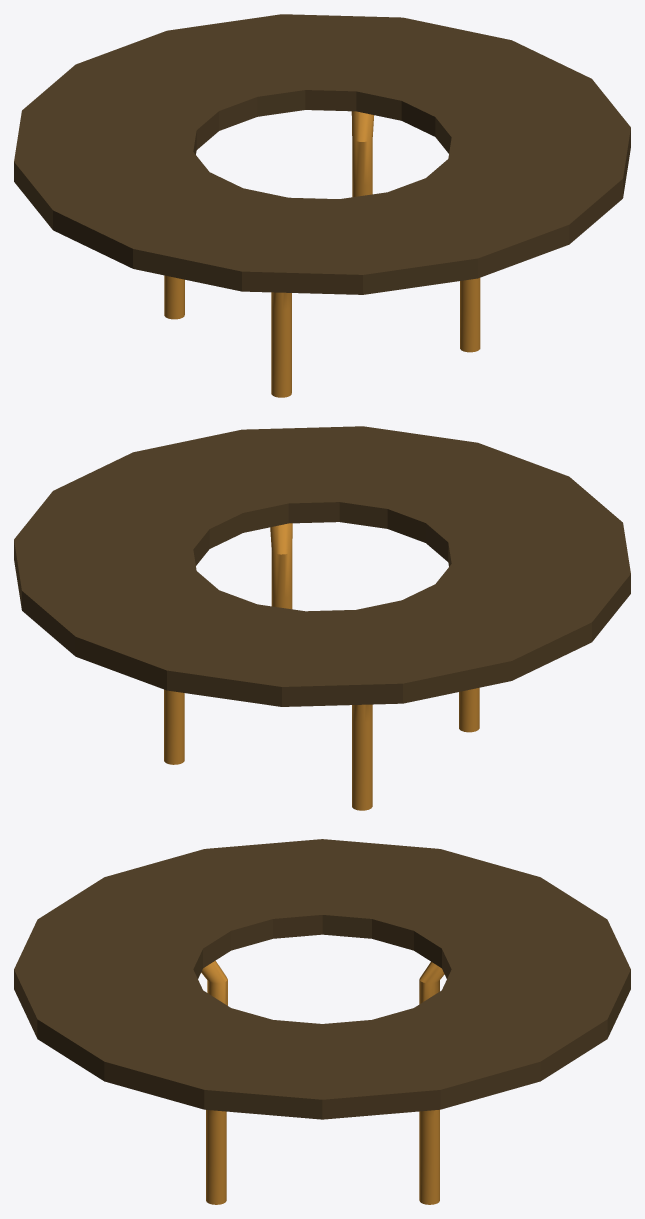
The model's file is Rounded Table.fbx.
3 renders of one model, top to bottom at view 1: azimuth 30°, elevation 25°; view 2: azimuth 150°, elevation 25°; view 3: azimuth 270°, elevation 25°, orthographic.
Parts seen in each view (by area): view 1: Tube, Cylinder_2, Cylinder, Cylinder_3, Cylinder_1; view 2: Tube, Cylinder_1, Cylinder_3, Cylinder, Cylinder_2; view 3: Tube, Cylinder, Cylinder_3, Cylinder_2, Cylinder_1.
Boxes of the visible parts, <box> form: Tube: <box>14,14,630,294</box>; Cylinder_2: <box>271,292,291,397</box>; Cylinder: <box>351,111,374,197</box>; Cylinder_3: <box>460,278,480,352</box>; Cylinder_1: <box>164,275,184,319</box>; Tube: <box>14,426,630,706</box>; Cylinder_1: <box>352,704,372,810</box>; Cylinder_3: <box>270,523,292,609</box>; Cylinder: <box>164,689,184,764</box>; Cylinder_2: <box>459,687,479,732</box>; Tube: <box>14,839,630,1119</box>; Cylinder: <box>419,1109,439,1204</box>; Cylinder_3: <box>206,1110,226,1204</box>; Cylinder_2: <box>201,960,227,1005</box>; Cylinder_1: <box>419,962,444,1004</box>.
Size of the model in its own units: 493 by 164 by 493.
